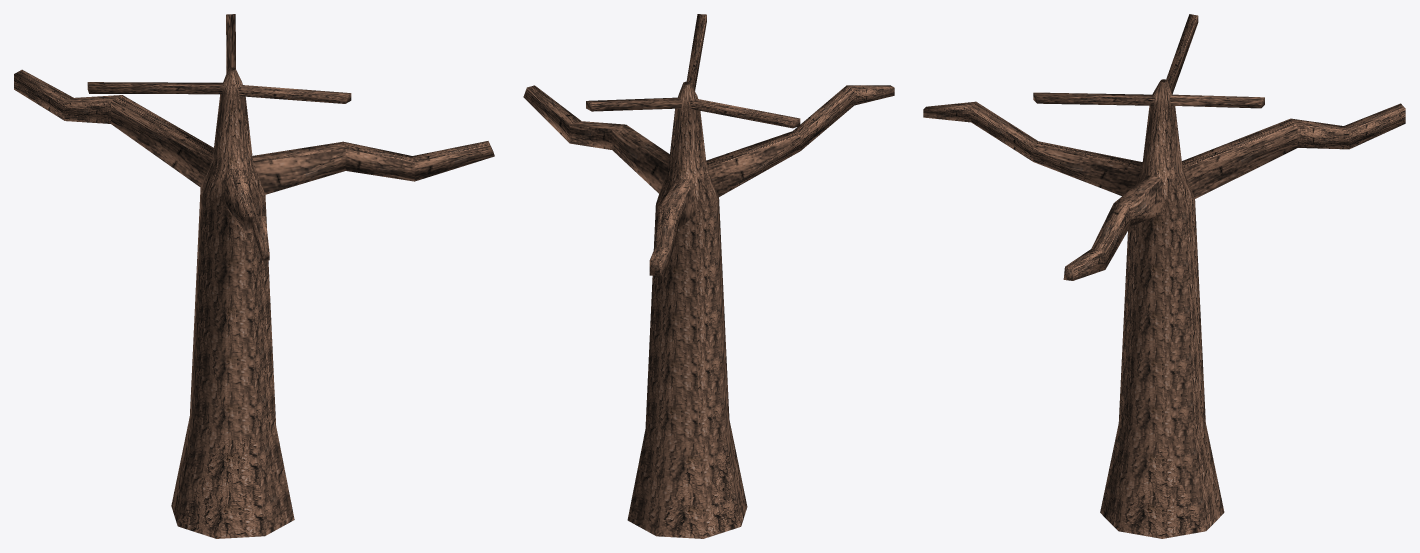
Rendered from tree.obj.
3 renders of one model, left to right at view 1: azimuth 30°, elevation 25°; view 2: azimuth 150°, elevation 25°; view 3: azimuth 270°, elevation 25°, orthographic. The views are drawn at different scales.
Bounding box in the file's own units: 4.71 × 5.92 × 5.86.
